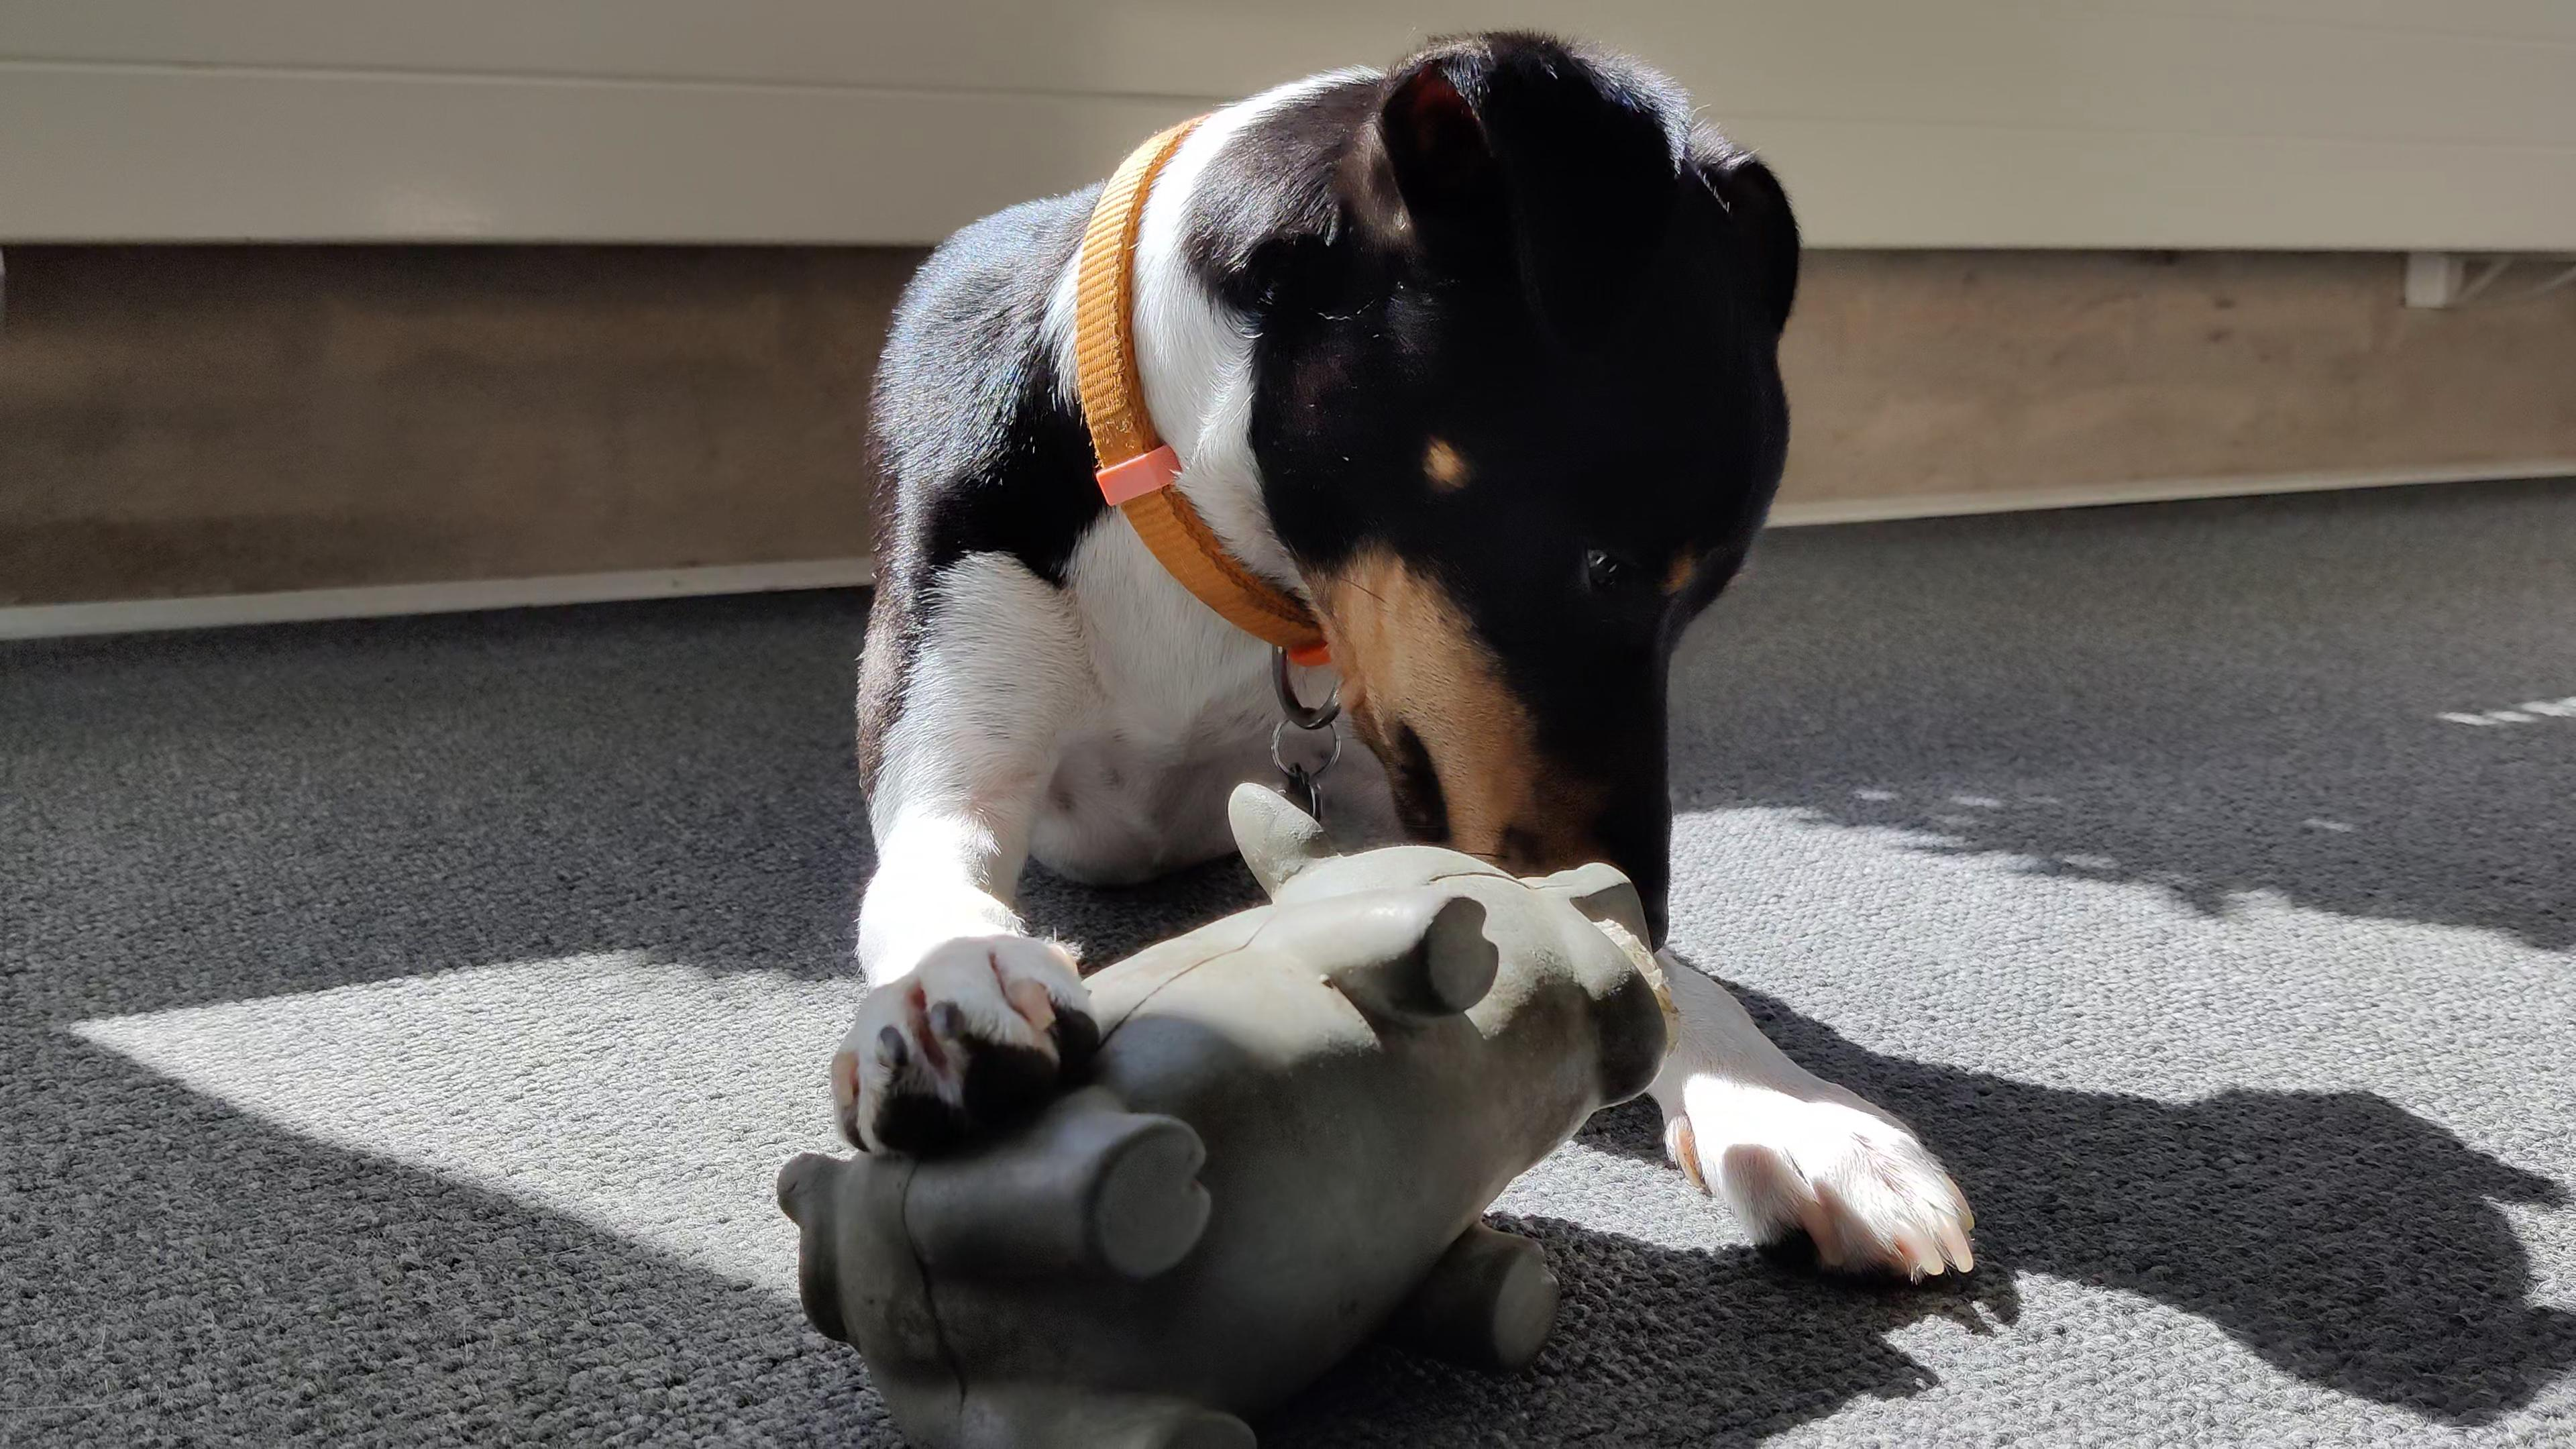Dog: (824, 21, 2026, 1286)
